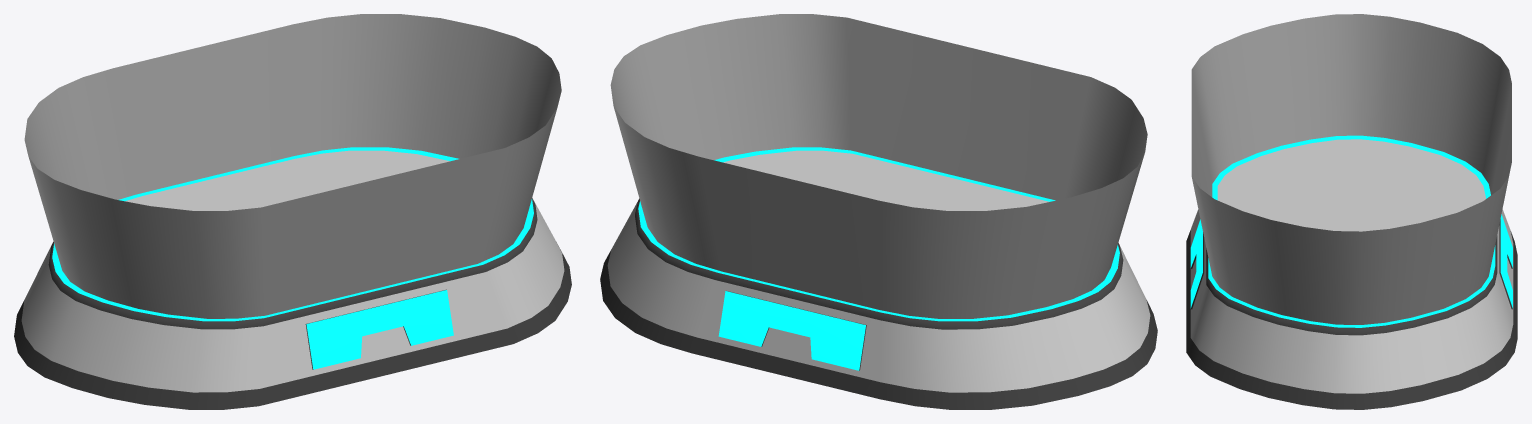
File: FUT0110012.fbx
3 renders of one model, left to right at view 1: azimuth 30°, elevation 25°; view 2: azimuth 150°, elevation 25°; view 3: azimuth 270°, elevation 25°, orthographic. The views are drawn at different scales.
Parts seen in each view (by area): view 1: smFUT0110012; view 2: smFUT0110012; view 3: smFUT0110012.
Part boxes in pixels (x1,y1,x2,y2): smFUT0110012: (14, 14, 571, 409); smFUT0110012: (600, 14, 1157, 409); smFUT0110012: (1186, 14, 1517, 409).
Bounding box in the file's own units: 286 × 103 × 177.
2 materials, 1 textured.
